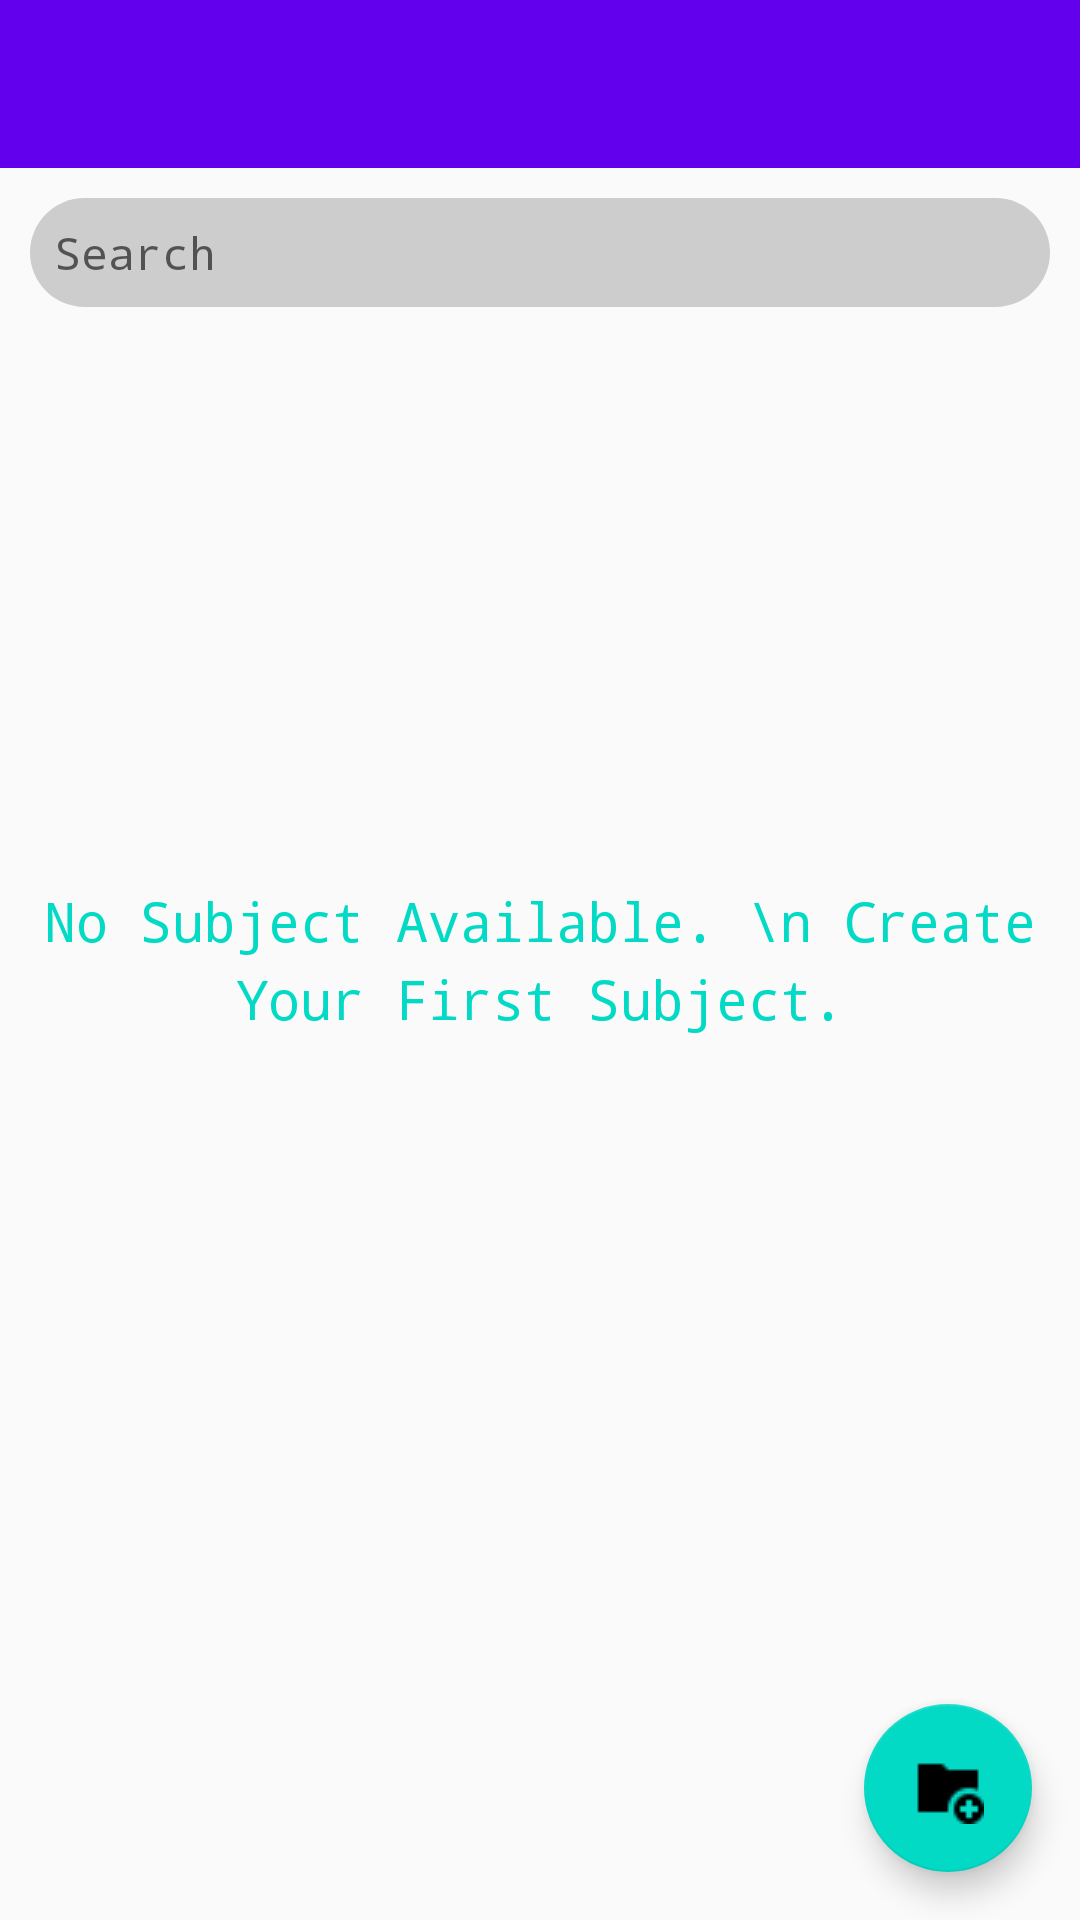

Icon bounding boxes for this 1080px x 1920px phone screenshot, format [x1,y1,x2,y2]:
add folder: [864,1704,1032,1872]
